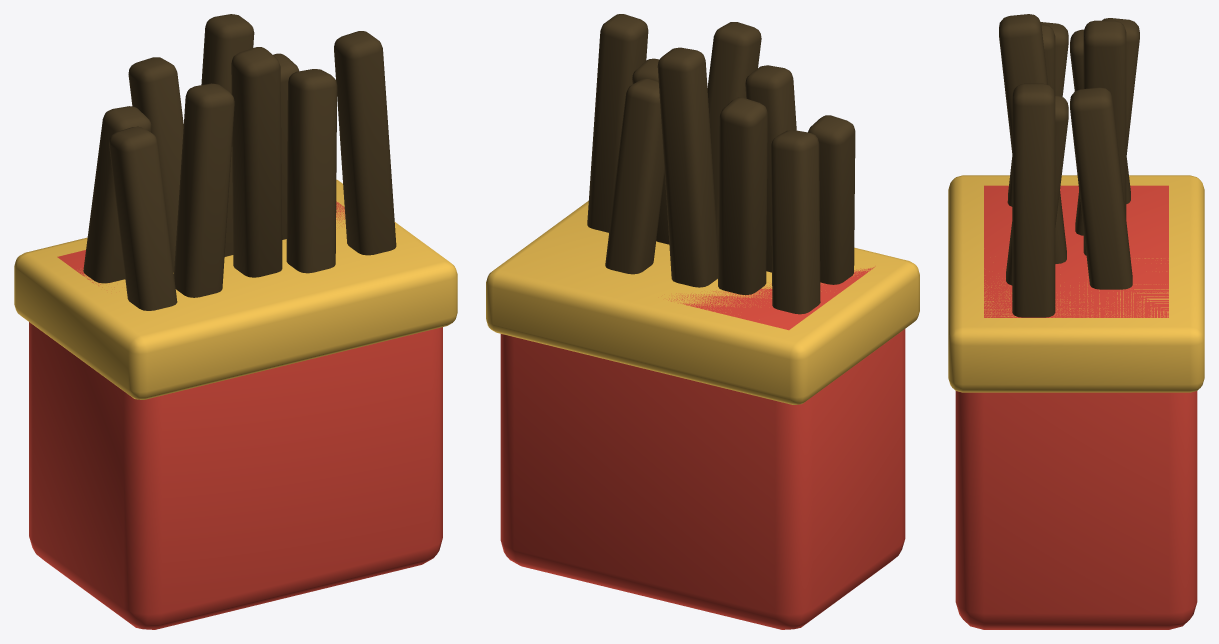
File: food_fries_burnt.glb
3 renders of one model, left to right at view 1: azimuth 30°, elevation 25°; view 2: azimuth 150°, elevation 25°; view 3: azimuth 270°, elevation 25°, orthographic. The views are drawn at different scales.
Parts seen in each view (by area): view 1: fries_burnt; view 2: fries_burnt; view 3: fries_burnt.
Boxes of the visible parts, x1,y1,x2,y2 form: fries_burnt: [14, 14, 457, 629]; fries_burnt: [486, 14, 919, 629]; fries_burnt: [948, 14, 1204, 629].
Size of the model in its own units: 0.27 by 0.4184 by 0.18.
